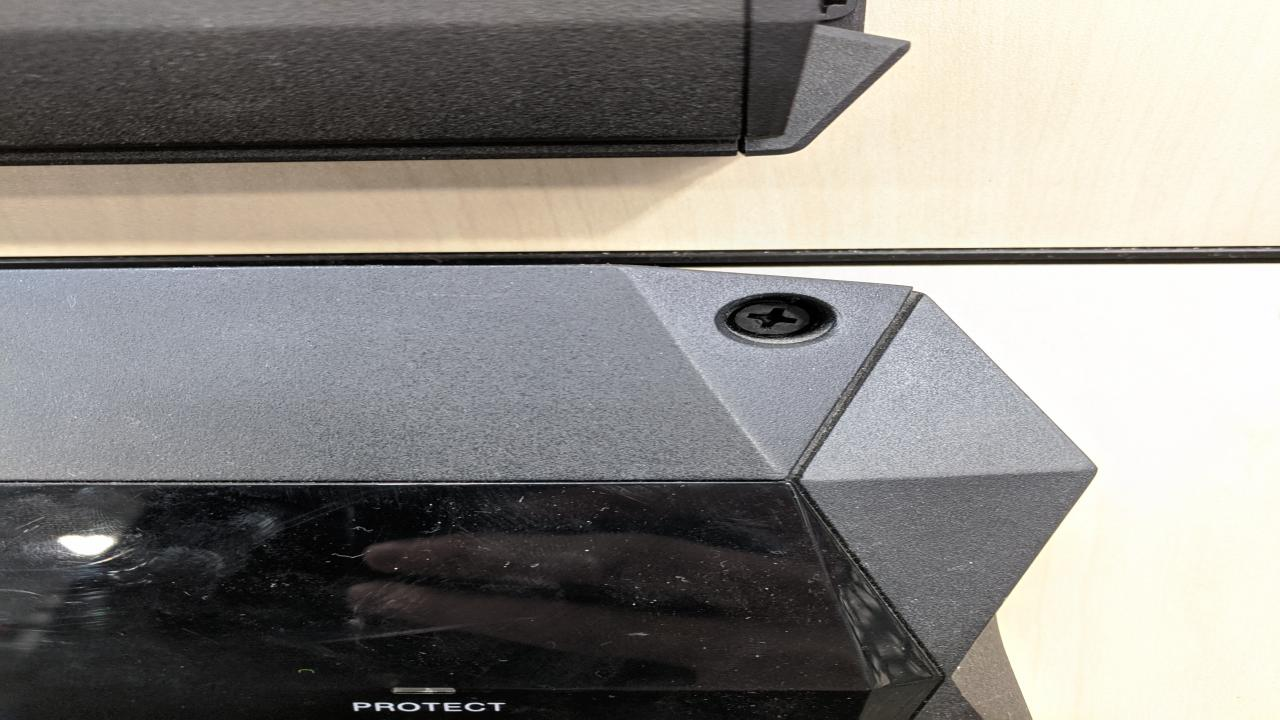CRS: (730, 298, 818, 339)
